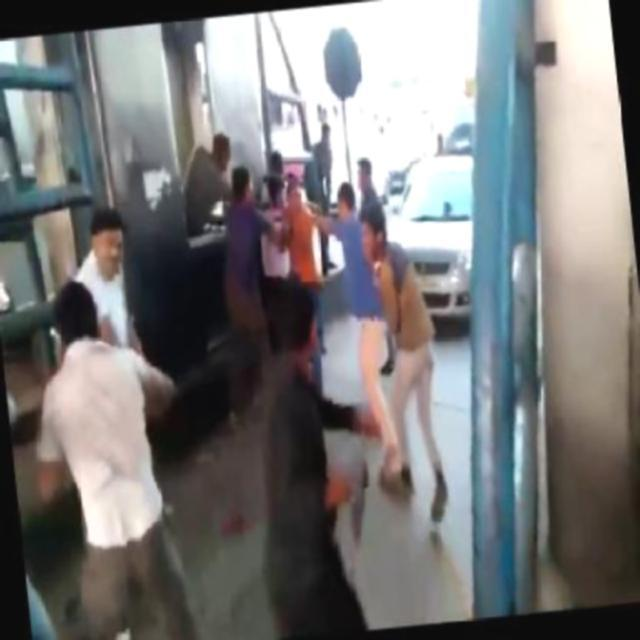fight: (8, 202, 204, 638)
